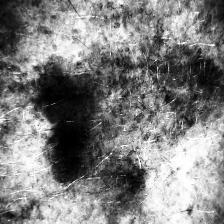Benign Marking or Mole: (22, 27, 220, 172), (30, 64, 90, 184)
